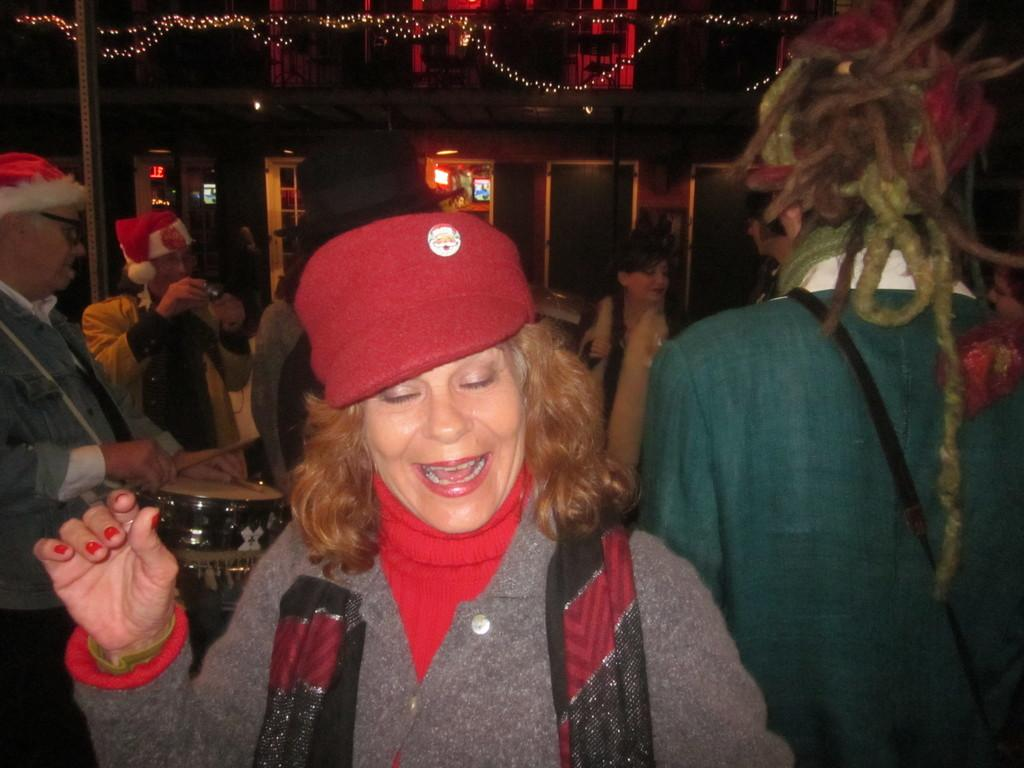Hat: (724, 0, 1023, 599), (292, 210, 540, 410)
